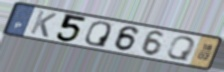5: (55, 13, 90, 44)
6: (112, 25, 141, 53), (140, 30, 166, 57)
K: (28, 9, 59, 39)
Q: (83, 20, 113, 49), (164, 36, 197, 62)
